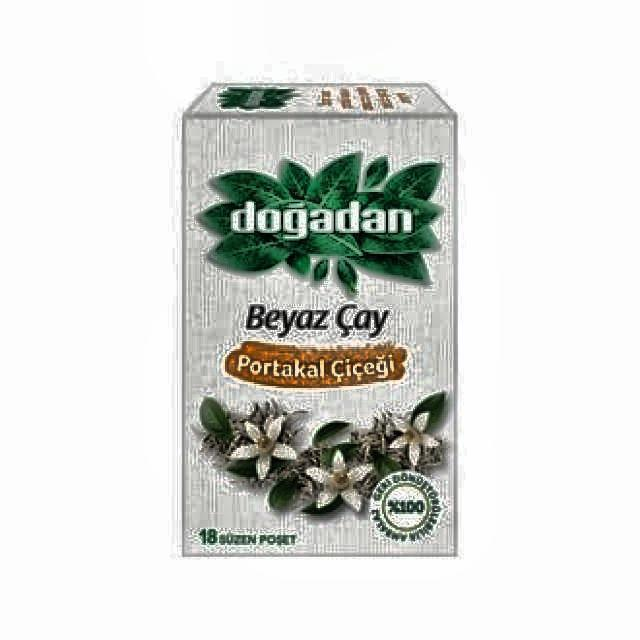cardboard: (179, 79, 464, 560)
